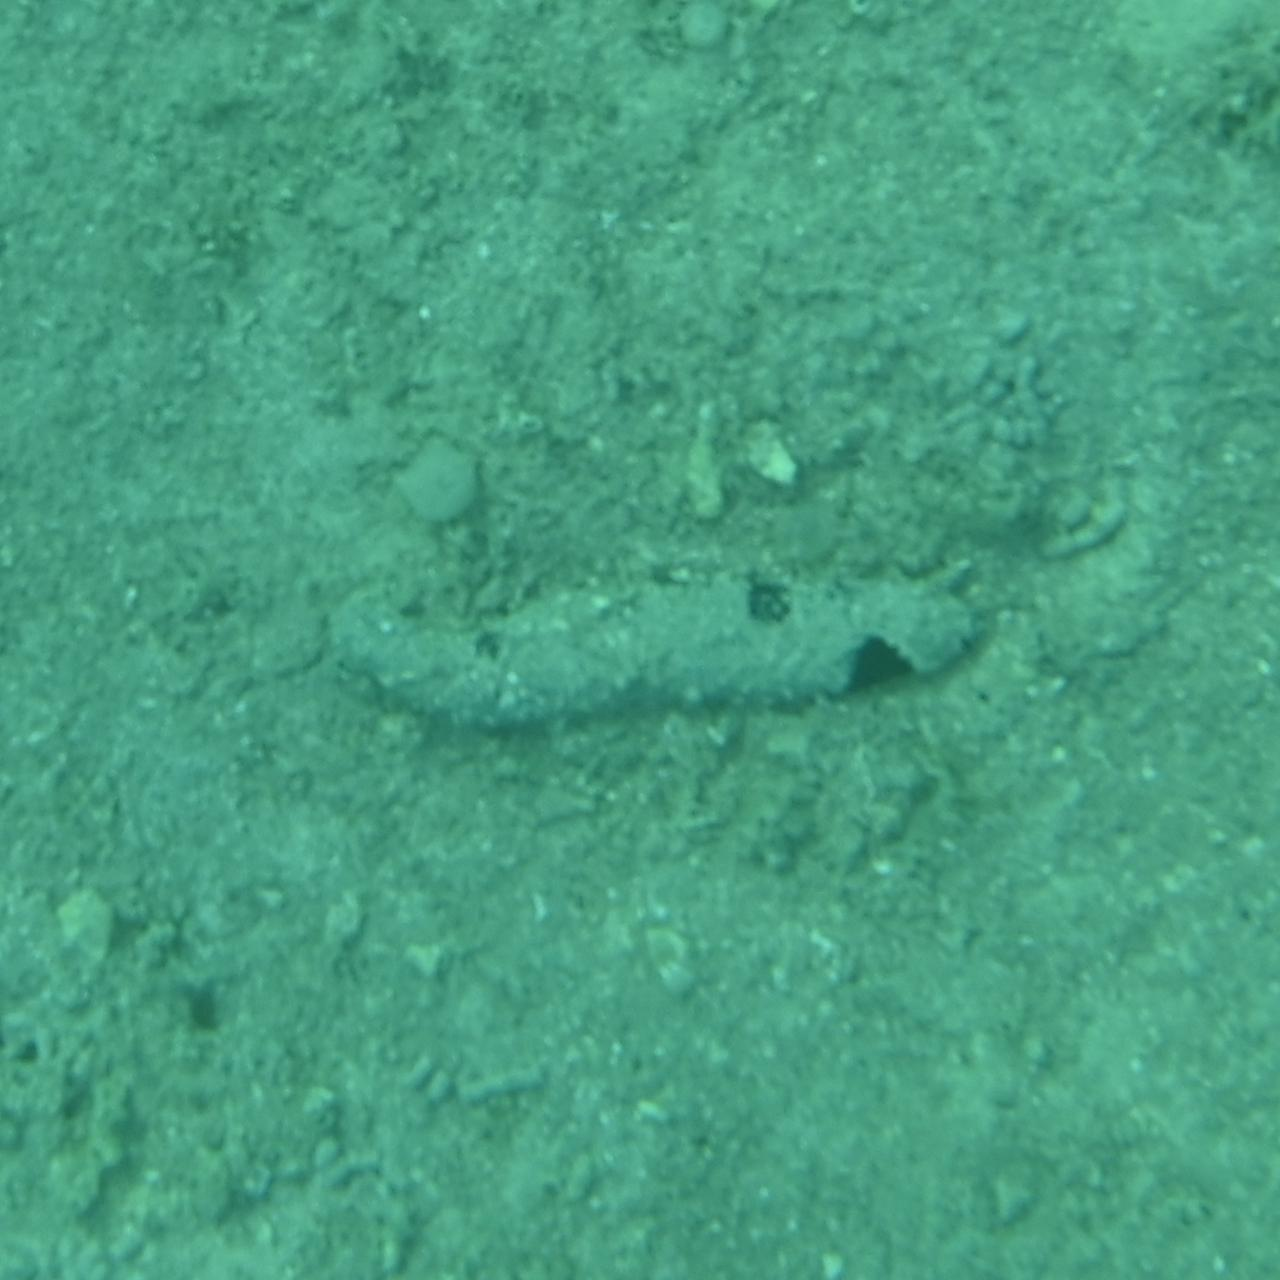Holothuria tubulosa: (281, 556, 999, 724)
